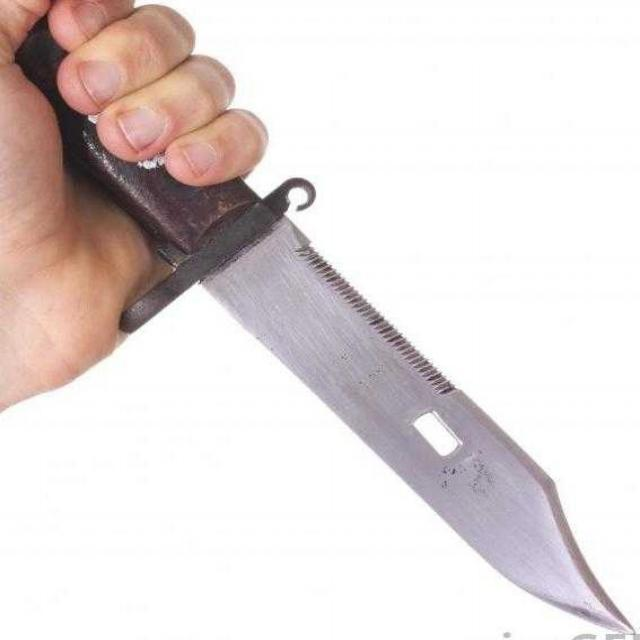knife: (11, 16, 638, 633)
